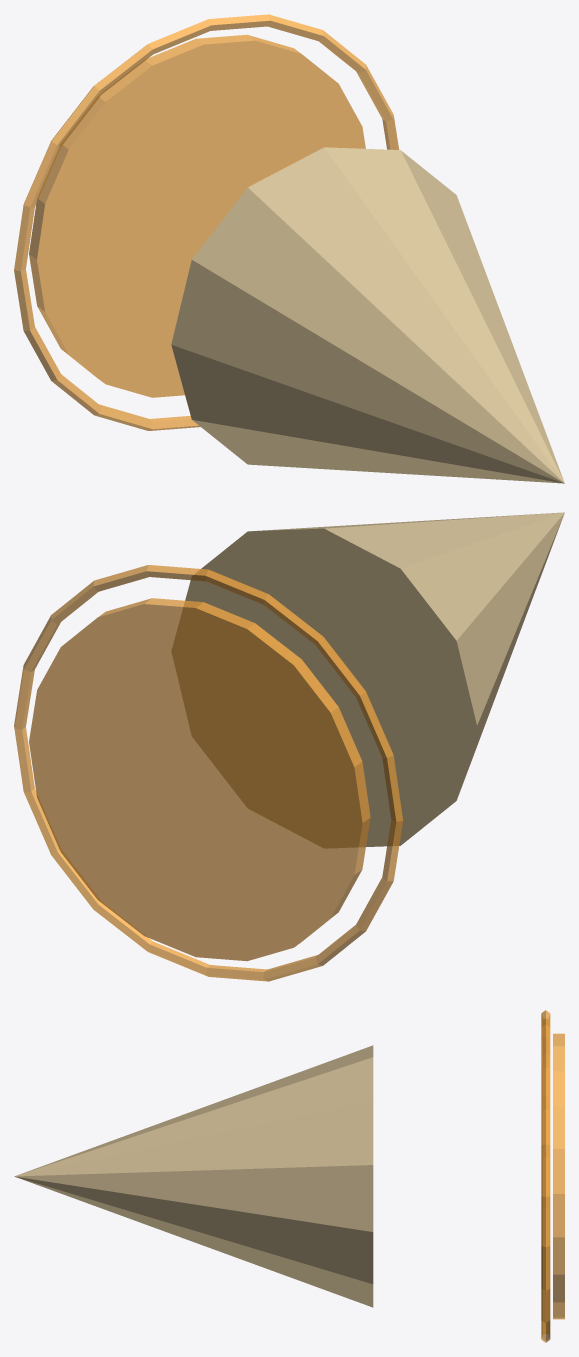
The model's file is 03_dust_devil_proxy.glb.
3 renders of one model, top to bottom at view 1: azimuth 30°, elevation 25°; view 2: azimuth 150°, elevation 25°; view 3: azimuth 270°, elevation 25°, orthographic. The views are drawn at different scales.
Visible parts, largest first — view 1: swirl_outer, base_disc, base_ring; view 2: base_disc, swirl_outer, base_ring; view 3: swirl_outer, base_disc, base_ring.
Boxes of the visible parts, x1,y1,x2,y2 form: swirl_outer: (171, 147, 564, 483); base_disc: (29, 34, 365, 397); base_ring: (14, 14, 399, 430); base_disc: (29, 598, 370, 961); swirl_outer: (172, 512, 564, 847); base_ring: (14, 565, 403, 981); swirl_outer: (14, 1045, 373, 1307); base_disc: (553, 1033, 564, 1319); base_ring: (541, 1010, 550, 1342).
Size of the model in its own units: 1.4 by 1.4 by 2.3.
